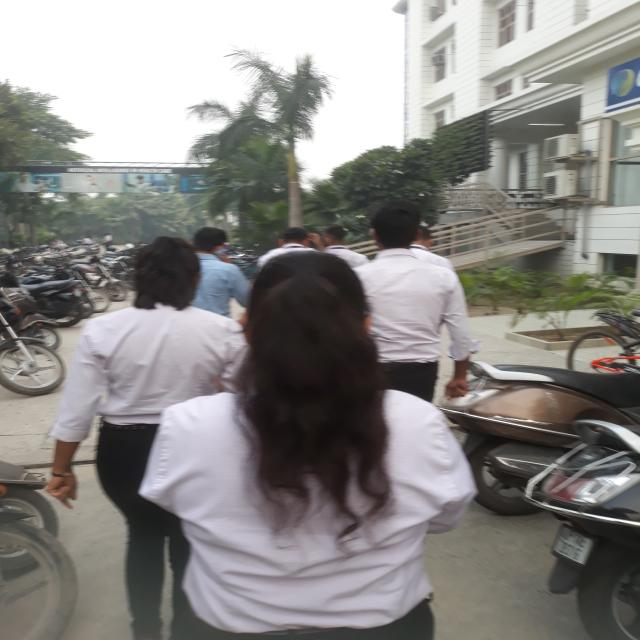unsafe: (146, 251, 469, 640)
